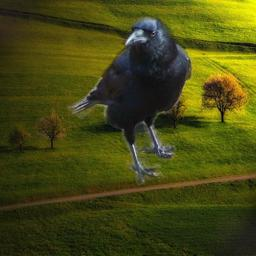Crow: (62, 9, 193, 187)
